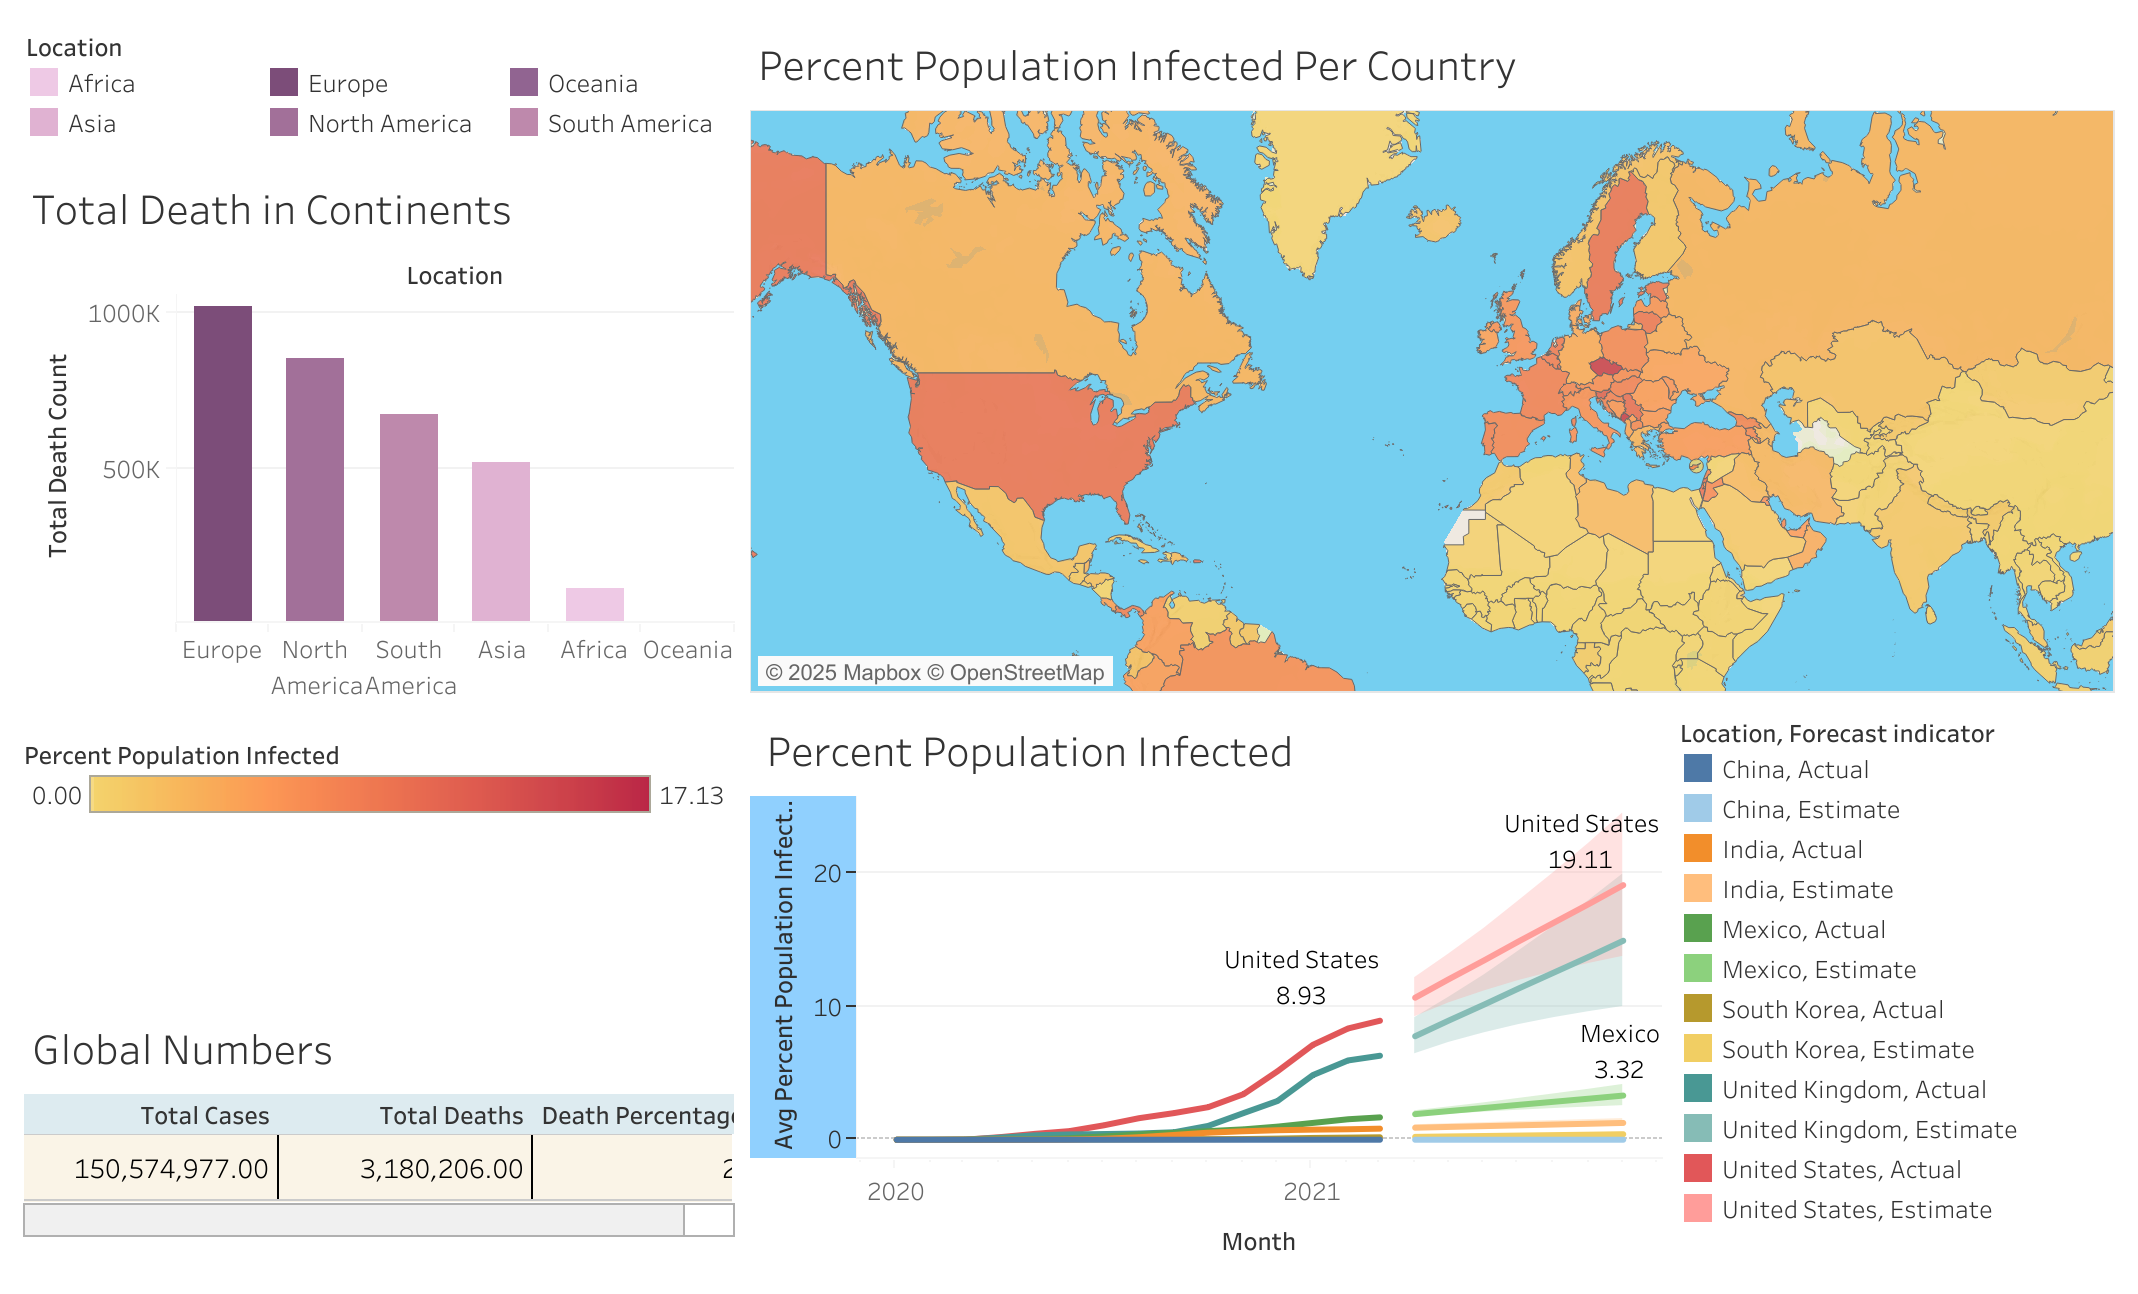

Layout of this report page (visuals, bound fields, positions):
{"tool":"tableau","page":{"name":"Dashboard 1","canvas":[1000,1000],"units":"permille","ordinal":0},"visuals":[{"type":"legend","title":"Sheet 2","param":"[federated.1akt6981ft7kpj15jelo80abigne].[none:location:nk]","box":[9.2,15.4,338.2,110.1]},{"type":"worksheet","title":"Sheet 3","mark":"Automatic","box":[347.4,15.4,643.3,525.8]},{"type":"worksheet","title":"Sheet 2","mark":"Automatic","rows":["TotalDeathCount"],"cols":["location"],"box":[9.2,125.5,338.2,429.6]},{"type":"worksheet","title":"Sheet 4","mark":"Automatic","rows":["PercentPopulationInfected"],"cols":["date"],"box":[347.4,541.1,432.1,443.5]},{"type":"legend","title":"Sheet 4","param":"[federated.0252re314sqq6b1gi819a0vjnj5c].[none:Location:nk]\n[federated.0252re314","box":[779.6,541.1,211.2,443.5]},{"type":"legend","title":"Sheet 3","param":"[federated.0cevrt917urwrx0zov0930f64y34].[sum:PercentPopulationInfected:qk]","box":[9.2,555.1,338.2,214.8]},{"type":"worksheet","title":"Sheet 1","mark":"Automatic","box":[9.2,769.9,338.2,214.8]}]}

Visuals, with their boxes on the dashboard's canvas, which has no fixed pixel size, in thousandths of its width and height (x1, y1, x2, y2). These are canvas units, not pixel positions in the 2138x1294 screenshot, which may show the page scaled, cropped or inside an application window:
"Sheet 2" legend: locate(9, 15, 347, 126)
"Sheet 3" worksheet: locate(347, 15, 991, 541)
"Sheet 2" worksheet: locate(9, 126, 347, 555)
"Sheet 4" worksheet: locate(347, 541, 780, 985)
"Sheet 4" legend: locate(780, 541, 991, 985)
"Sheet 3" legend: locate(9, 555, 347, 770)
"Sheet 1" worksheet: locate(9, 770, 347, 985)
